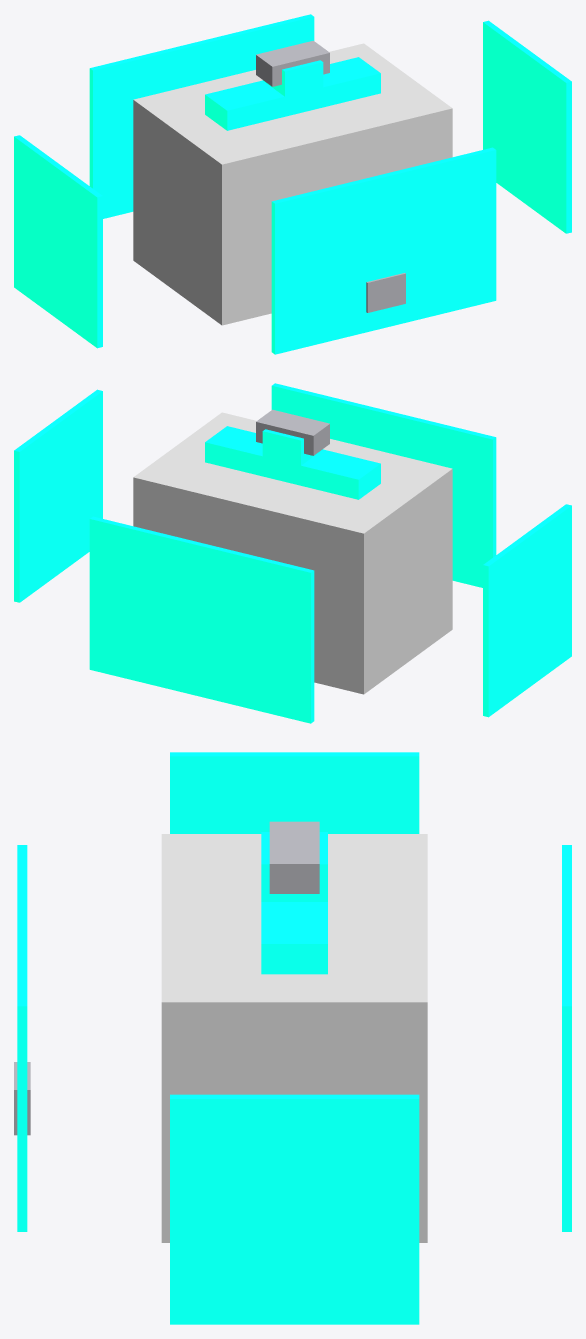
Rendered from health_kit.glb.
The picture shows the model from 3 angles, top to bottom: view 1: azimuth 30°, elevation 25°; view 2: azimuth 150°, elevation 25°; view 3: azimuth 270°, elevation 25°; orthographic projection. The views are drawn at different scales.
Visible parts, largest first — view 1: HealthBox, FrontStrip_-1, SideStrip_-1, SideStrip_1, FrontStrip_1, CrossH, Handle, CrossV, Latch; view 2: HealthBox, FrontStrip_1, SideStrip_-1, SideStrip_1, FrontStrip_-1, CrossH, CrossV, Handle; view 3: HealthBox, SideStrip_1, SideStrip_-1, CrossH, FrontStrip_-1, FrontStrip_1, Handle, CrossV.
Part boxes in pixels (x1,y1,x2,y2): HealthBox: (133, 43, 452, 325); FrontStrip_-1: (271, 147, 496, 354); SideStrip_-1: (14, 135, 102, 348); SideStrip_1: (483, 20, 571, 233); FrontStrip_1: (89, 14, 314, 218); CrossH: (205, 57, 380, 130); Handle: (256, 40, 329, 86); CrossV: (262, 60, 323, 113); Latch: (366, 273, 405, 312); HealthBox: (133, 412, 452, 694); FrontStrip_1: (89, 516, 314, 723); SideStrip_-1: (483, 504, 571, 717); SideStrip_1: (14, 389, 102, 602); FrontStrip_-1: (271, 383, 496, 587); CrossH: (205, 426, 380, 499); CrossV: (262, 429, 323, 483); Handle: (256, 409, 329, 455); HealthBox: (161, 834, 427, 1242); SideStrip_1: (170, 1094, 419, 1324); SideStrip_-1: (170, 752, 419, 833); CrossH: (261, 832, 327, 974); FrontStrip_-1: (17, 845, 27, 1231); FrontStrip_1: (562, 845, 571, 1231); Handle: (269, 821, 319, 893); CrossV: (261, 836, 327, 901).
Size of the model in its own units: 0.247 by 0.105 by 0.168.
